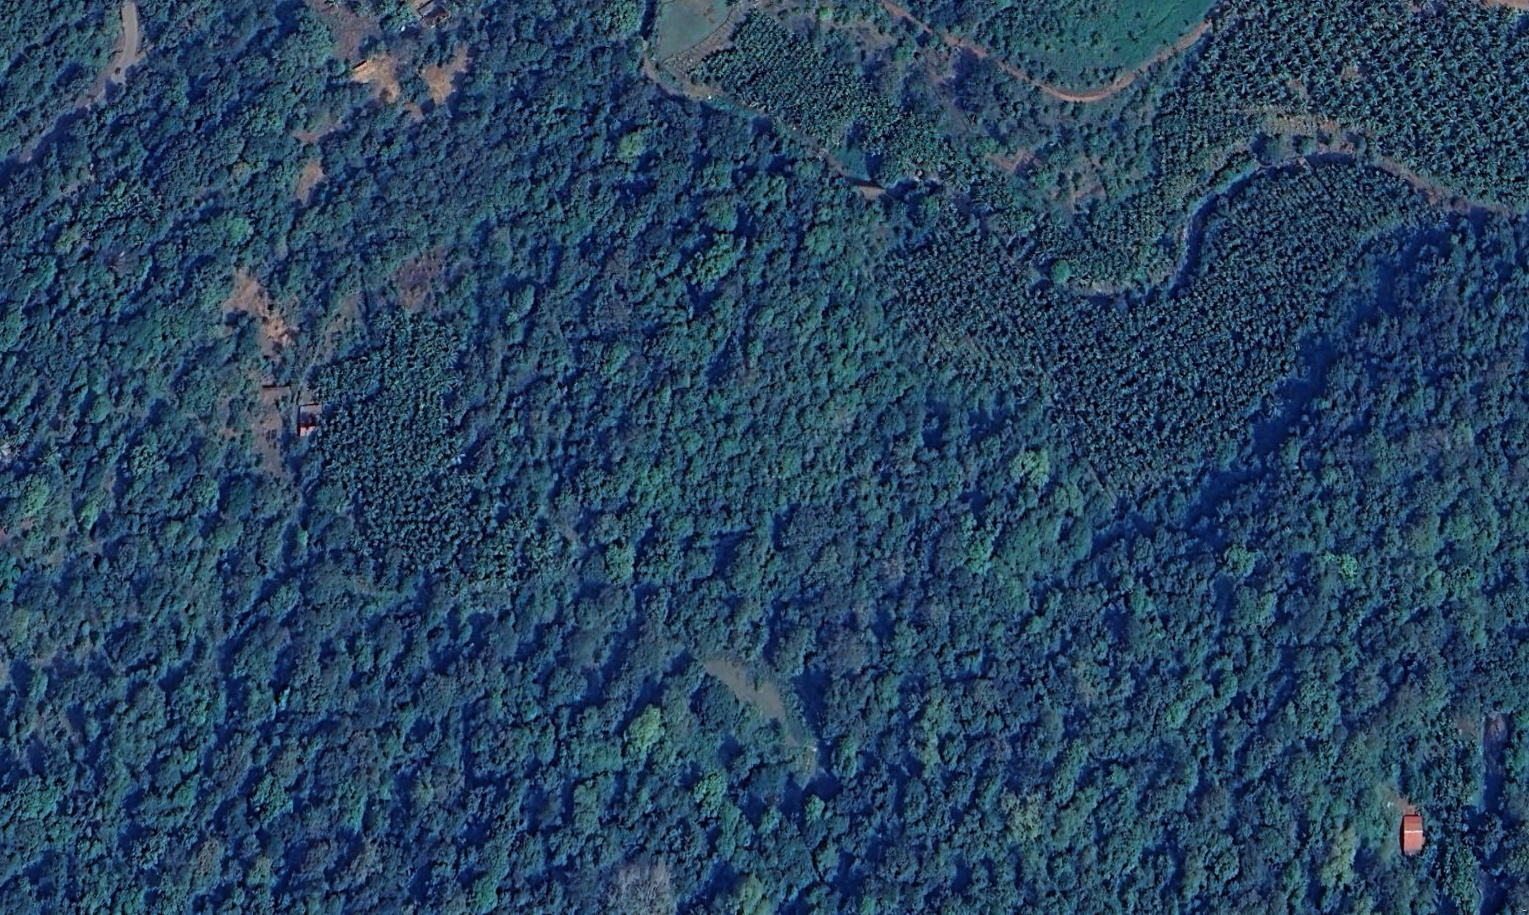arecanut: (882, 161, 1439, 495), (311, 392, 487, 578)
